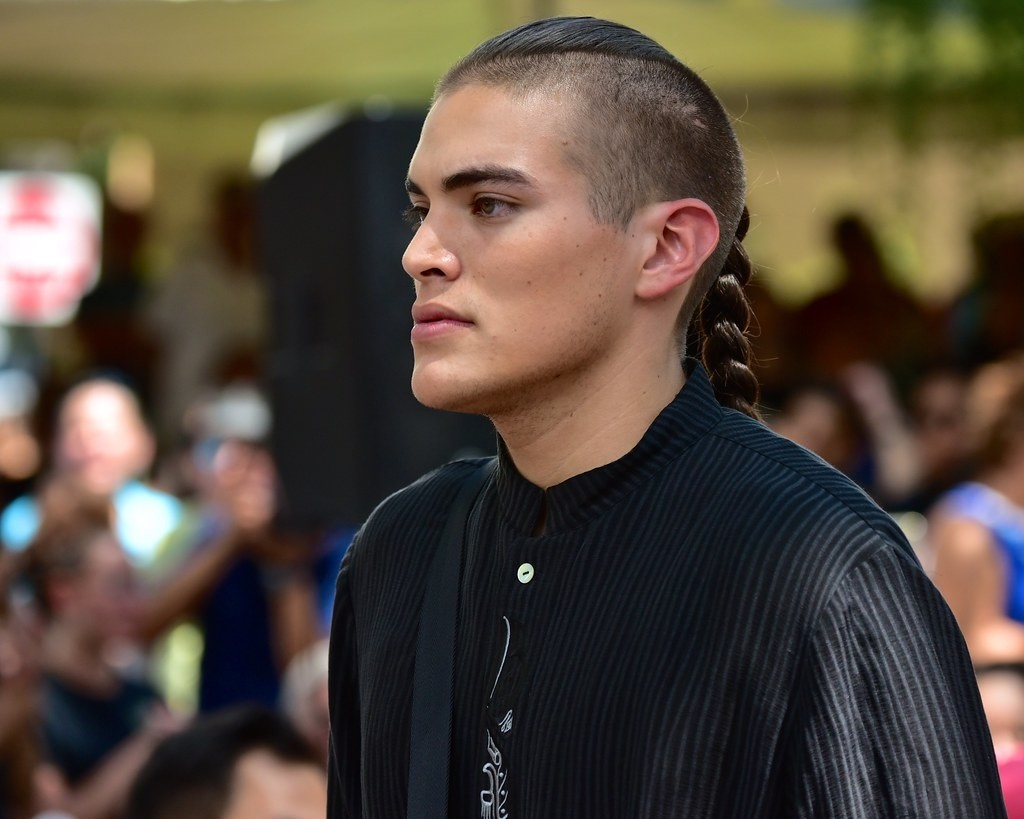face_no_mask: (401, 24, 746, 418)
